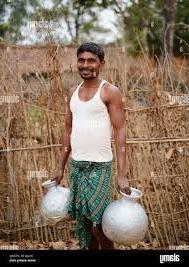Human: (54, 39, 131, 261)
